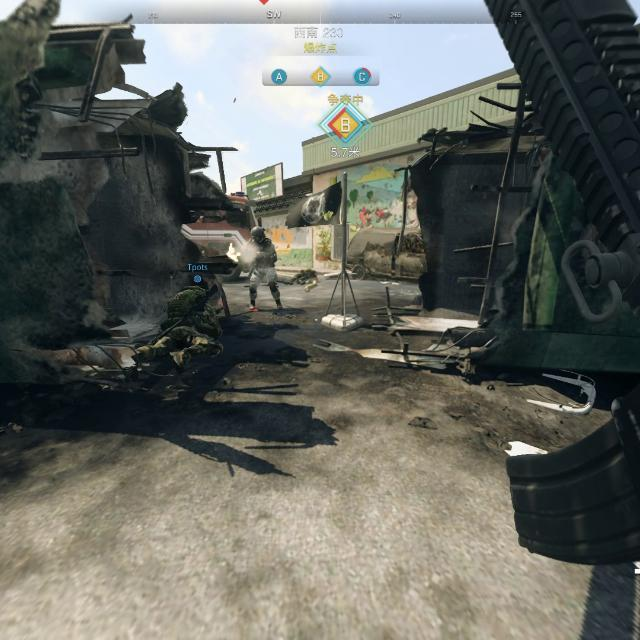MW2_body: (246, 227, 284, 310)
